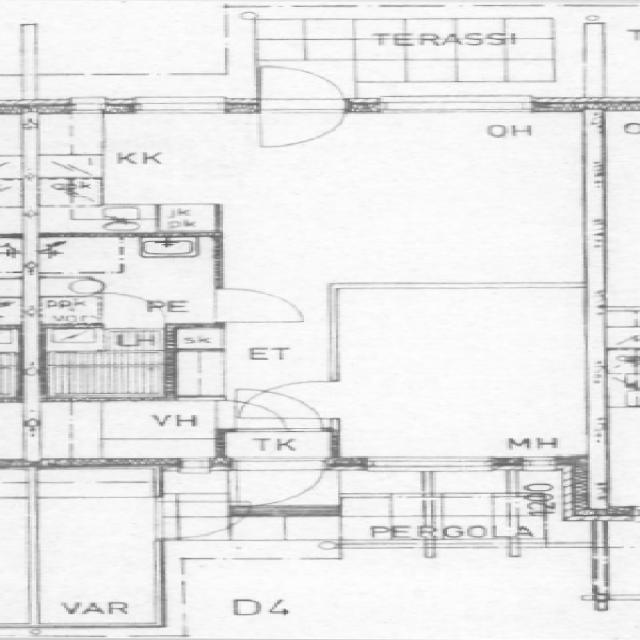door: (251, 63, 354, 151), (232, 458, 328, 508), (208, 285, 306, 326), (230, 384, 324, 426), (224, 396, 290, 432), (159, 511, 236, 541)
window: (365, 96, 543, 118), (129, 98, 234, 116), (64, 96, 110, 112)
zone: (9, 109, 616, 272), (324, 278, 599, 469), (165, 552, 612, 640), (8, 1, 232, 104), (31, 234, 222, 332), (26, 399, 226, 466), (38, 332, 177, 401)
